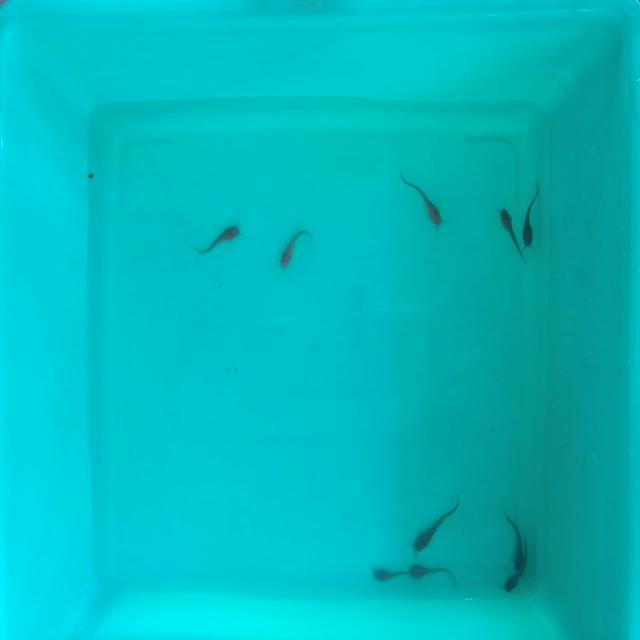lele: (412, 493, 464, 554), (394, 170, 445, 224), (193, 223, 243, 260), (277, 227, 313, 274), (520, 180, 539, 247), (500, 207, 522, 263), (407, 562, 456, 584), (500, 570, 538, 598), (506, 516, 525, 570), (371, 568, 412, 584)
